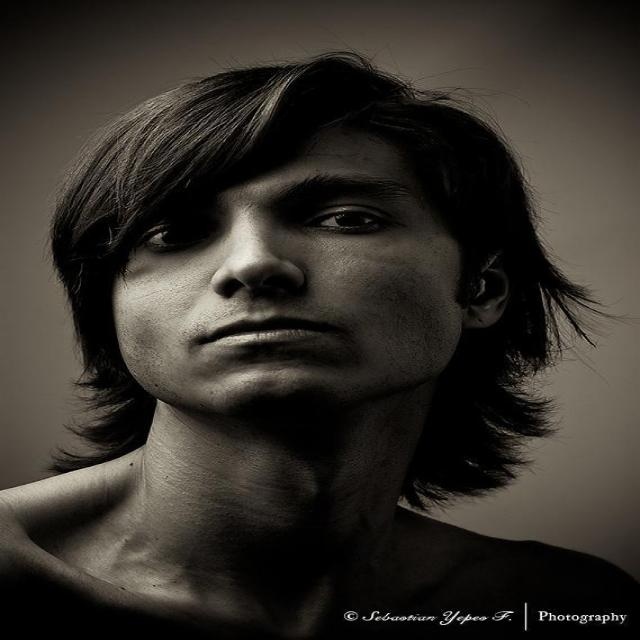no-glass: (127, 204, 396, 252)
